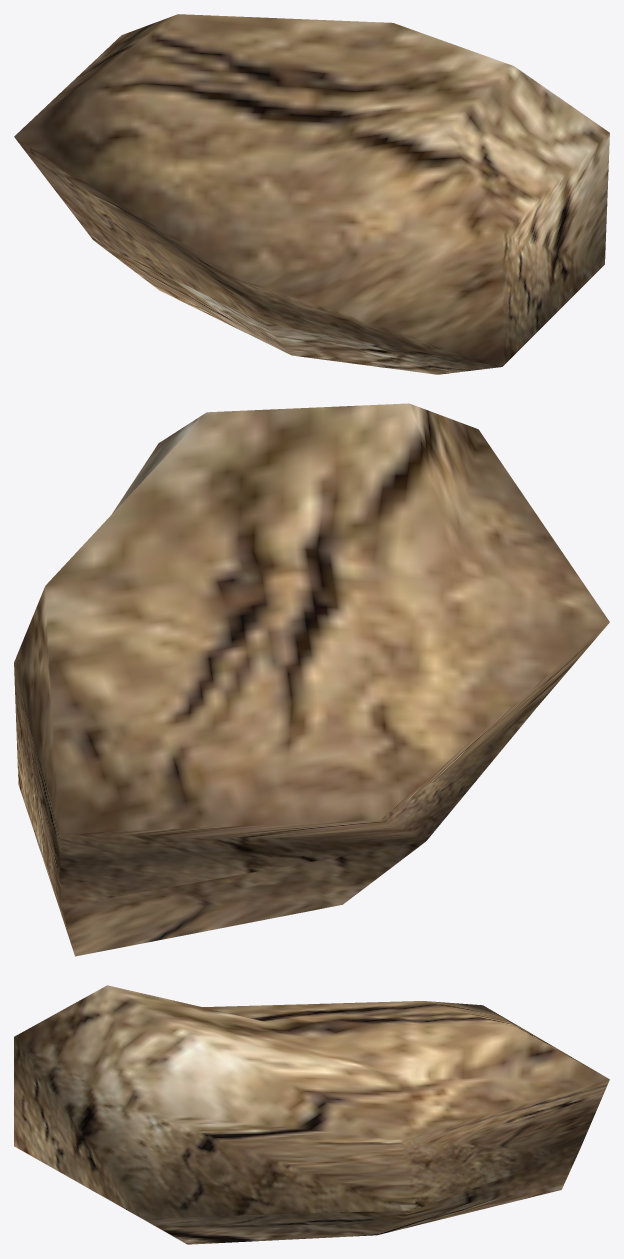
Rendered from des_rockD.fbx.
3 renders of one model, top to bottom at view 1: azimuth 30°, elevation 25°; view 2: azimuth 150°, elevation 25°; view 3: azimuth 270°, elevation 25°, orthographic. The views are drawn at different scales.
Parts seen in each view (by area): view 1: Sphere.003; view 2: Sphere.003; view 3: Sphere.003.
Part boxes in pixels (x1=…): Sphere.003: x1=14, y1=14, x2=609, y2=374; Sphere.003: x1=14, y1=403, x2=609, y2=956; Sphere.003: x1=14, y1=985, x2=609, y2=1244.
Bounding box in the file's own units: 247 × 175 × 398.
Materials: 1 (1 with a texture image).
